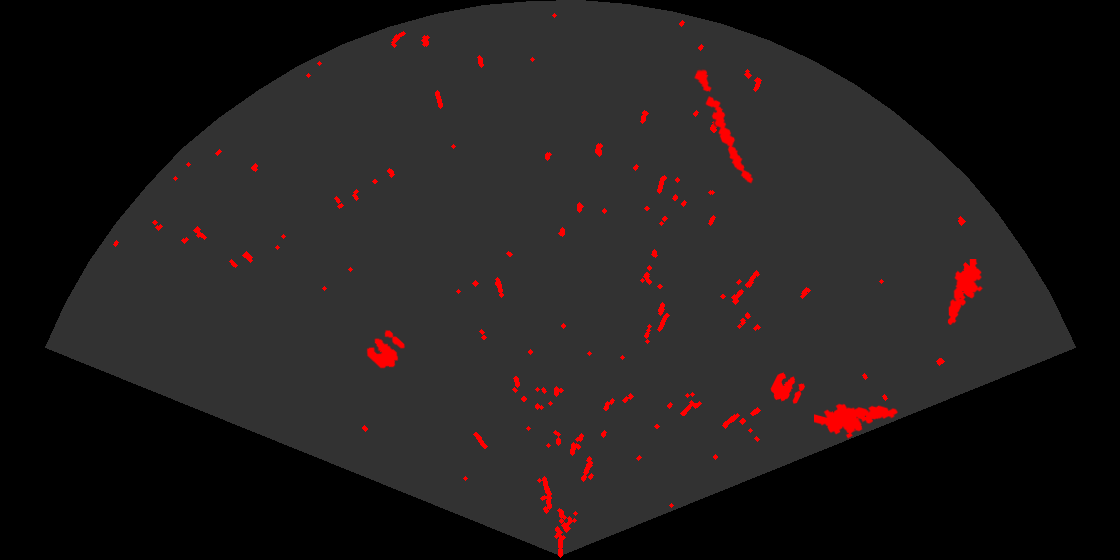ball: (365, 328, 407, 370), (769, 371, 807, 405)
chain: (693, 67, 755, 185)
frogman: (814, 402, 900, 440), (946, 259, 985, 325)
